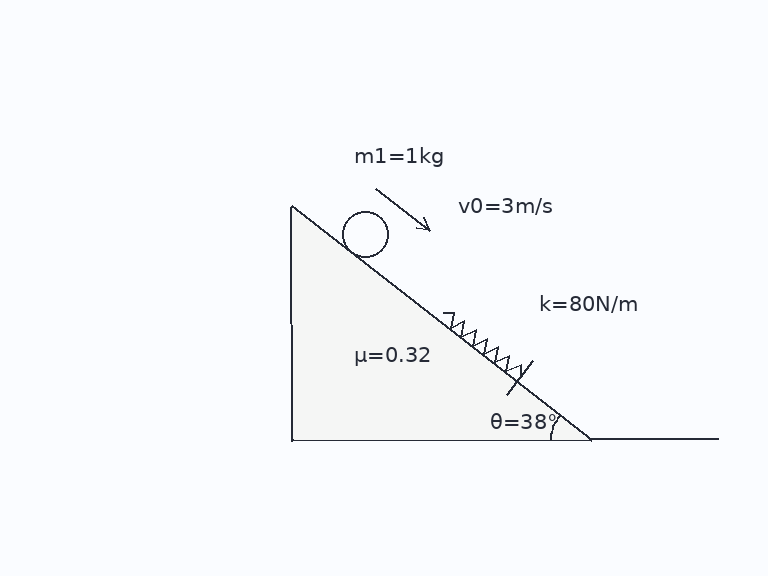ball: (340, 209, 390, 259)
ramp: (290, 204, 593, 442)
spring: (442, 310, 524, 376)
